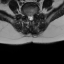CCS_normal: (30, 13, 32, 22)
LFS_severe_stenosis: (33, 13, 36, 19)
LLS_normal: (32, 14, 33, 21)
RFS_severe_stenosis: (25, 13, 27, 19)
RLS_normal: (27, 13, 29, 20)
